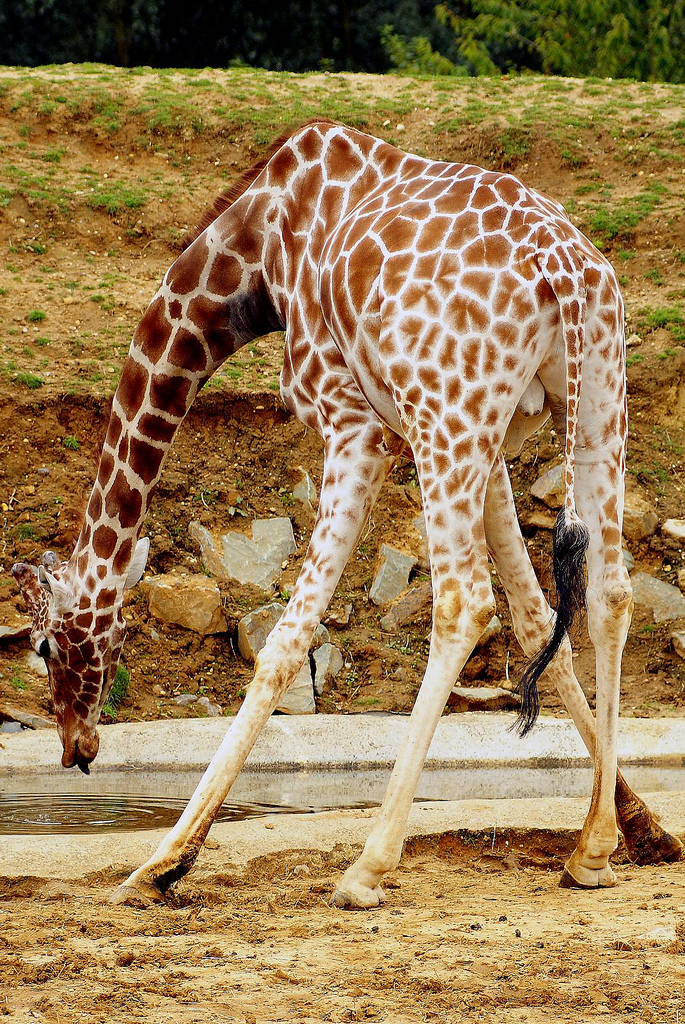giraffe: (37, 70, 646, 906)
